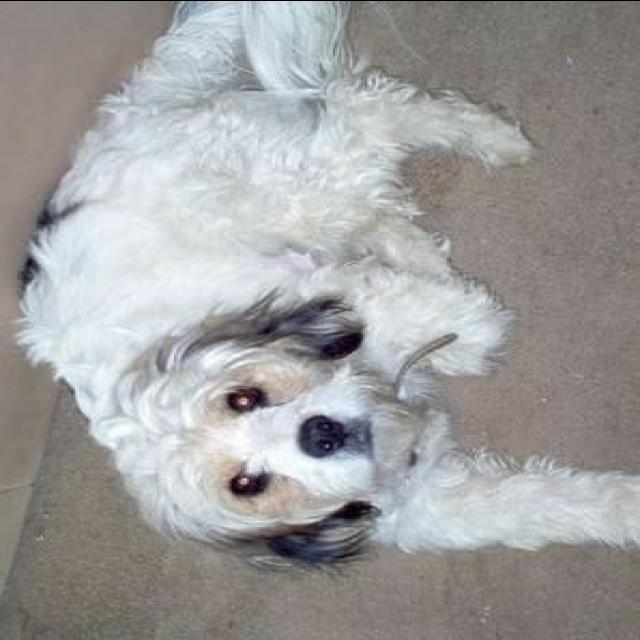maltese_dog: (8, 5, 638, 582)
